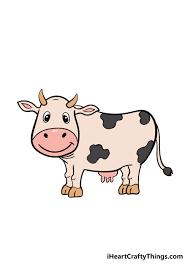cow: (18, 97, 159, 196)
